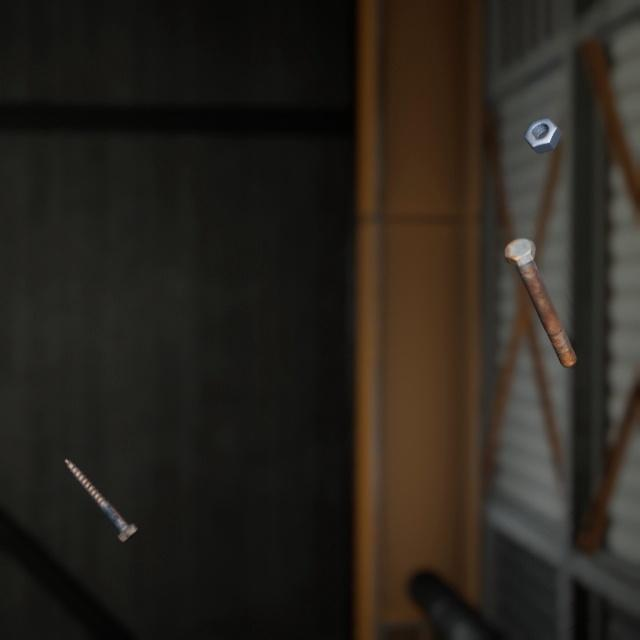bolt: (500, 215, 580, 355), (60, 433, 143, 526)
nut: (519, 99, 566, 145)
